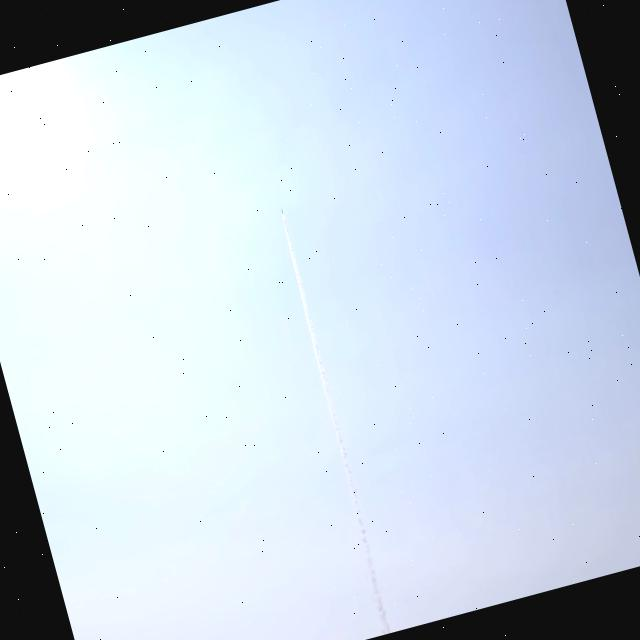smoke_trail_with_rocket: (296, 279, 390, 635)
